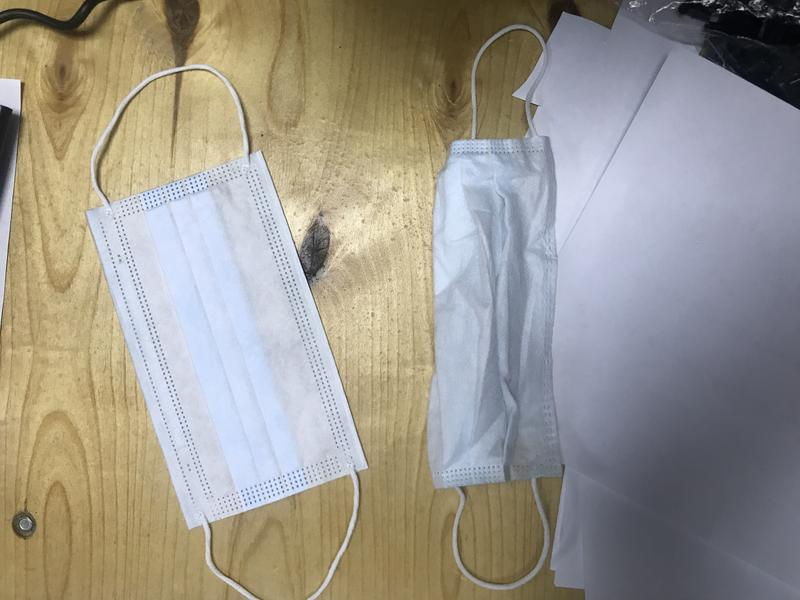medical_mask: (87, 63, 369, 600), (435, 23, 559, 589)
